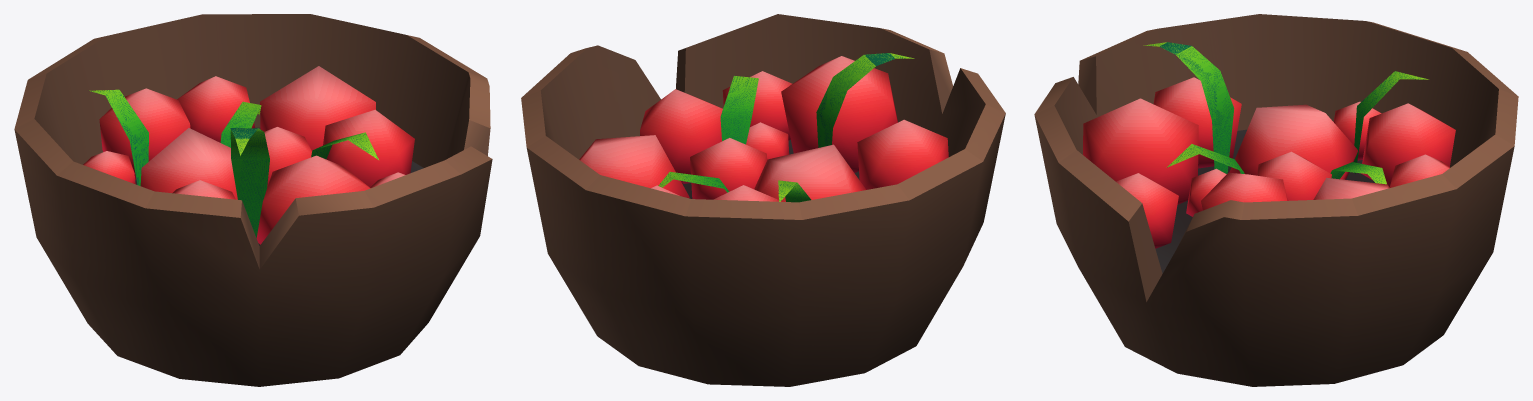
File: Food_Bowl_2A.fbx
3 renders of one model, left to right at view 1: azimuth 30°, elevation 25°; view 2: azimuth 150°, elevation 25°; view 3: azimuth 270°, elevation 25°, orthographic.
Visible parts, largest first — view 1: Food_Bowl_2A, Food_Bowl_2A_Vegetables; view 2: Food_Bowl_2A, Food_Bowl_2A_Vegetables; view 3: Food_Bowl_2A, Food_Bowl_2A_Vegetables.
Part boxes in pixels (x1,y1,x2,y2): Food_Bowl_2A: (14, 14, 492, 386); Food_Bowl_2A_Vegetables: (83, 66, 414, 244); Food_Bowl_2A: (521, 14, 1005, 386); Food_Bowl_2A_Vegetables: (579, 53, 948, 202); Food_Bowl_2A: (1034, 14, 1518, 386); Food_Bowl_2A_Vegetables: (1083, 42, 1455, 248).
Size of the model in its own units: 90.95 by 48.68 by 90.65.
